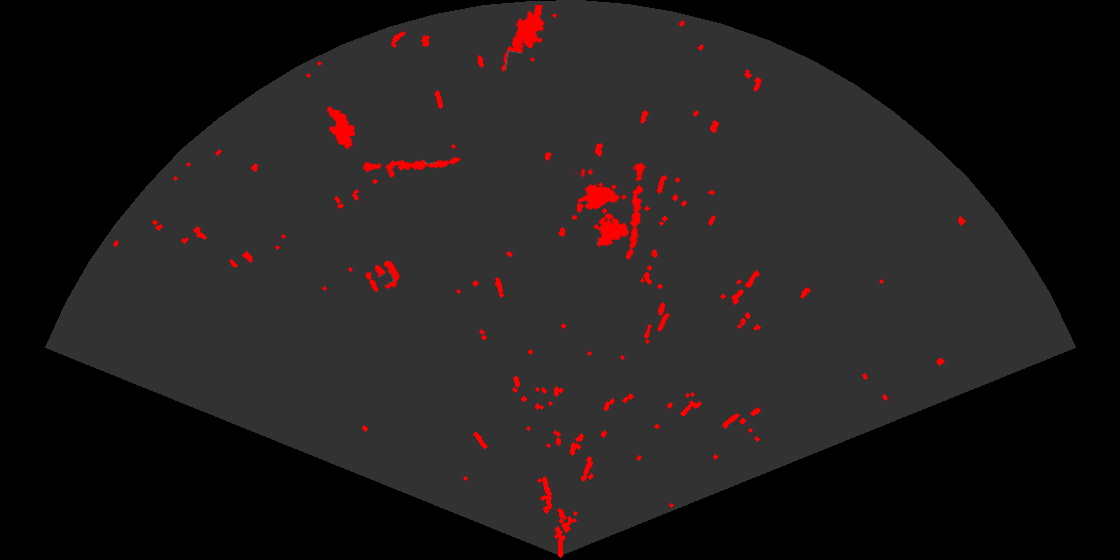AUV: (325, 105, 357, 151)
ball: (364, 259, 401, 293)
cage: (572, 169, 631, 249)
chain: (624, 160, 648, 262), (361, 156, 461, 174)
frogman: (500, 5, 546, 74)
